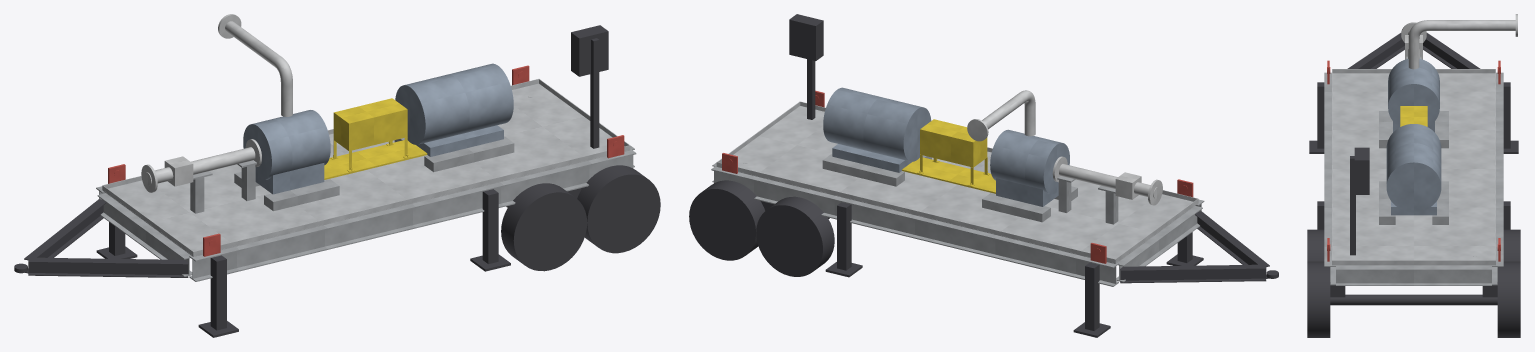
File: mobile-pump-frames.glb
3 views of the same model, side by side, from view 1: azimuth 30°, elevation 25°; view 2: azimuth 150°, elevation 25°; view 3: azimuth 270°, elevation 25° (orthographic). The views are drawn at different scales.
Parts seen in each view (by area): view 1: DripTray&Deck, Chassis,Axles&Jacks, Equipment(context), BaseFrame, CouplingGuard, SkidPiping, EquipmentPedestals, LiftingLugs, Pipe&EquipmentSupports; view 2: DripTray&Deck, Chassis,Axles&Jacks, Equipment(context), BaseFrame, CouplingGuard, SkidPiping, EquipmentPedestals, LiftingLugs, Pipe&EquipmentSupports; view 3: DripTray&Deck, Chassis,Axles&Jacks, Equipment(context), BaseFrame, SkidPiping, EquipmentPedestals, CouplingGuard, LiftingLugs.
Boxes of the visible parts, bbox=[...] form: DripTray&Deck: bbox=[102, 79, 630, 256]; Chassis,Axles&Jacks: bbox=[14, 25, 660, 337]; Equipment(context): bbox=[243, 63, 513, 194]; BaseFrame: bbox=[96, 95, 636, 281]; CouplingGuard: bbox=[324, 98, 427, 179]; SkidPiping: bbox=[141, 14, 292, 192]; EquipmentPedestals: bbox=[234, 136, 514, 211]; LiftingLugs: bbox=[108, 65, 624, 256]; Pipe&EquipmentSupports: bbox=[190, 160, 256, 213]; DripTray&Deck: bbox=[716, 101, 1198, 263]; Chassis,Axles&Jacks: bbox=[689, 14, 1278, 337]; Equipment(context): bbox=[823, 87, 1069, 206]; BaseFrame: bbox=[711, 110, 1204, 286]; CouplingGuard: bbox=[902, 119, 995, 193]; SkidPiping: bbox=[967, 90, 1162, 205]; EquipmentPedestals: bbox=[822, 154, 1077, 222]; LiftingLugs: bbox=[722, 90, 1193, 263]; Pipe&EquipmentSupports: bbox=[1057, 176, 1118, 224]; DripTray&Deck: bbox=[1332, 69, 1495, 265]; Chassis,Axles&Jacks: bbox=[1307, 33, 1520, 337]; Equipment(context): bbox=[1386, 59, 1441, 215]; BaseFrame: bbox=[1324, 72, 1503, 285]; SkidPiping: bbox=[1401, 14, 1517, 69]; EquipmentPedestals: bbox=[1379, 111, 1448, 224]; CouplingGuard: bbox=[1400, 106, 1427, 126]; LiftingLugs: bbox=[1327, 60, 1500, 261].
Bounding box in the file's own units: 7.98 × 2.86 × 2.8.
Materials: 7 (6 with a texture image).
